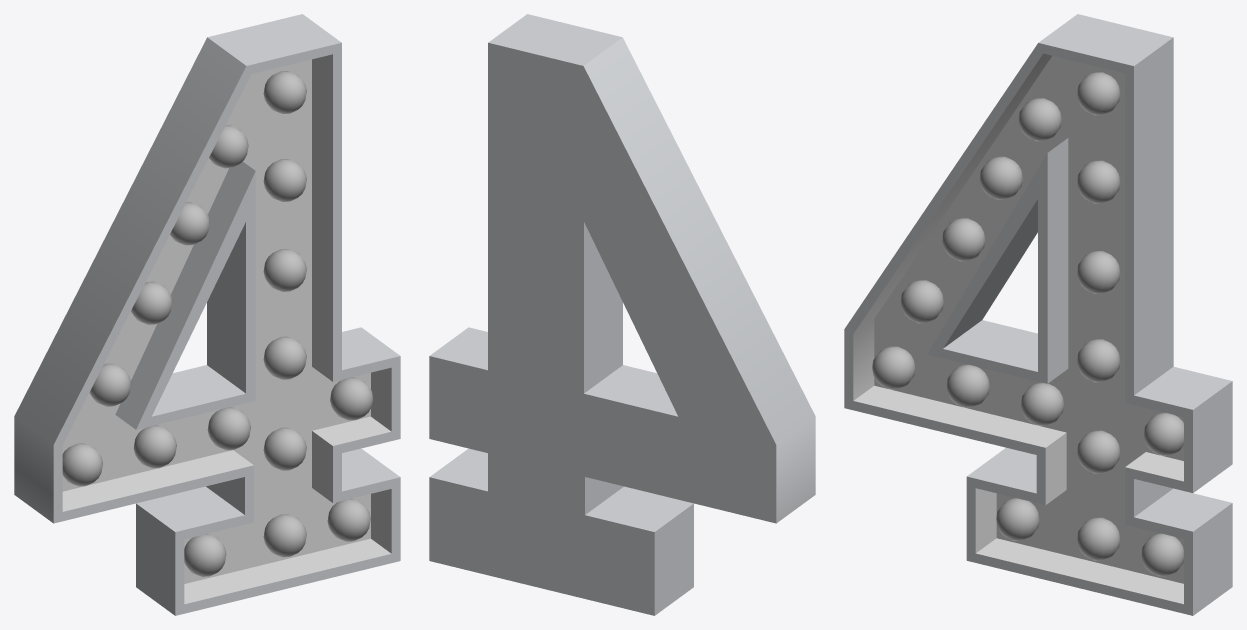
Rendered from LettersBulb01_4.FBX.
The picture shows the model from 3 angles, left to right: view 1: azimuth 30°, elevation 25°; view 2: azimuth 150°, elevation 25°; view 3: azimuth 330°, elevation 25°; orthographic projection.
Visible parts, largest first — view 1: LettersBulb01_4; view 2: LettersBulb01_4; view 3: LettersBulb01_4.
Part boxes in pixels (x1,y1,x2,y2): LettersBulb01_4: (14, 14, 400, 615); LettersBulb01_4: (429, 14, 815, 615); LettersBulb01_4: (844, 14, 1232, 615).
Size of what is drawn, in the model's own units: 0.794 by 1.16 by 0.1563.
